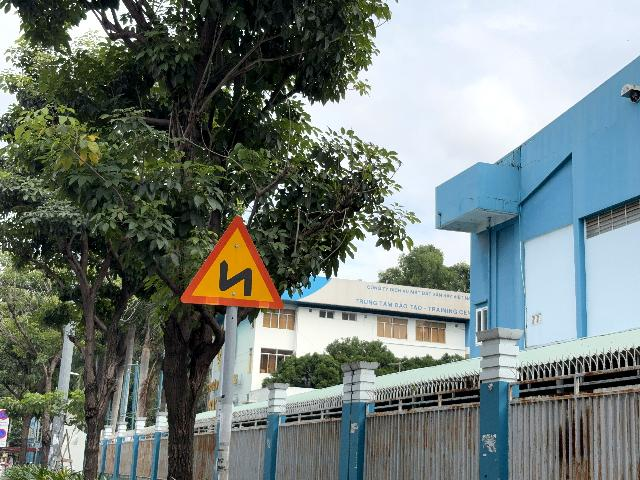nhieu-cho-ngoat-nguy-hiem-lien-tiep: (180, 216, 284, 310)
